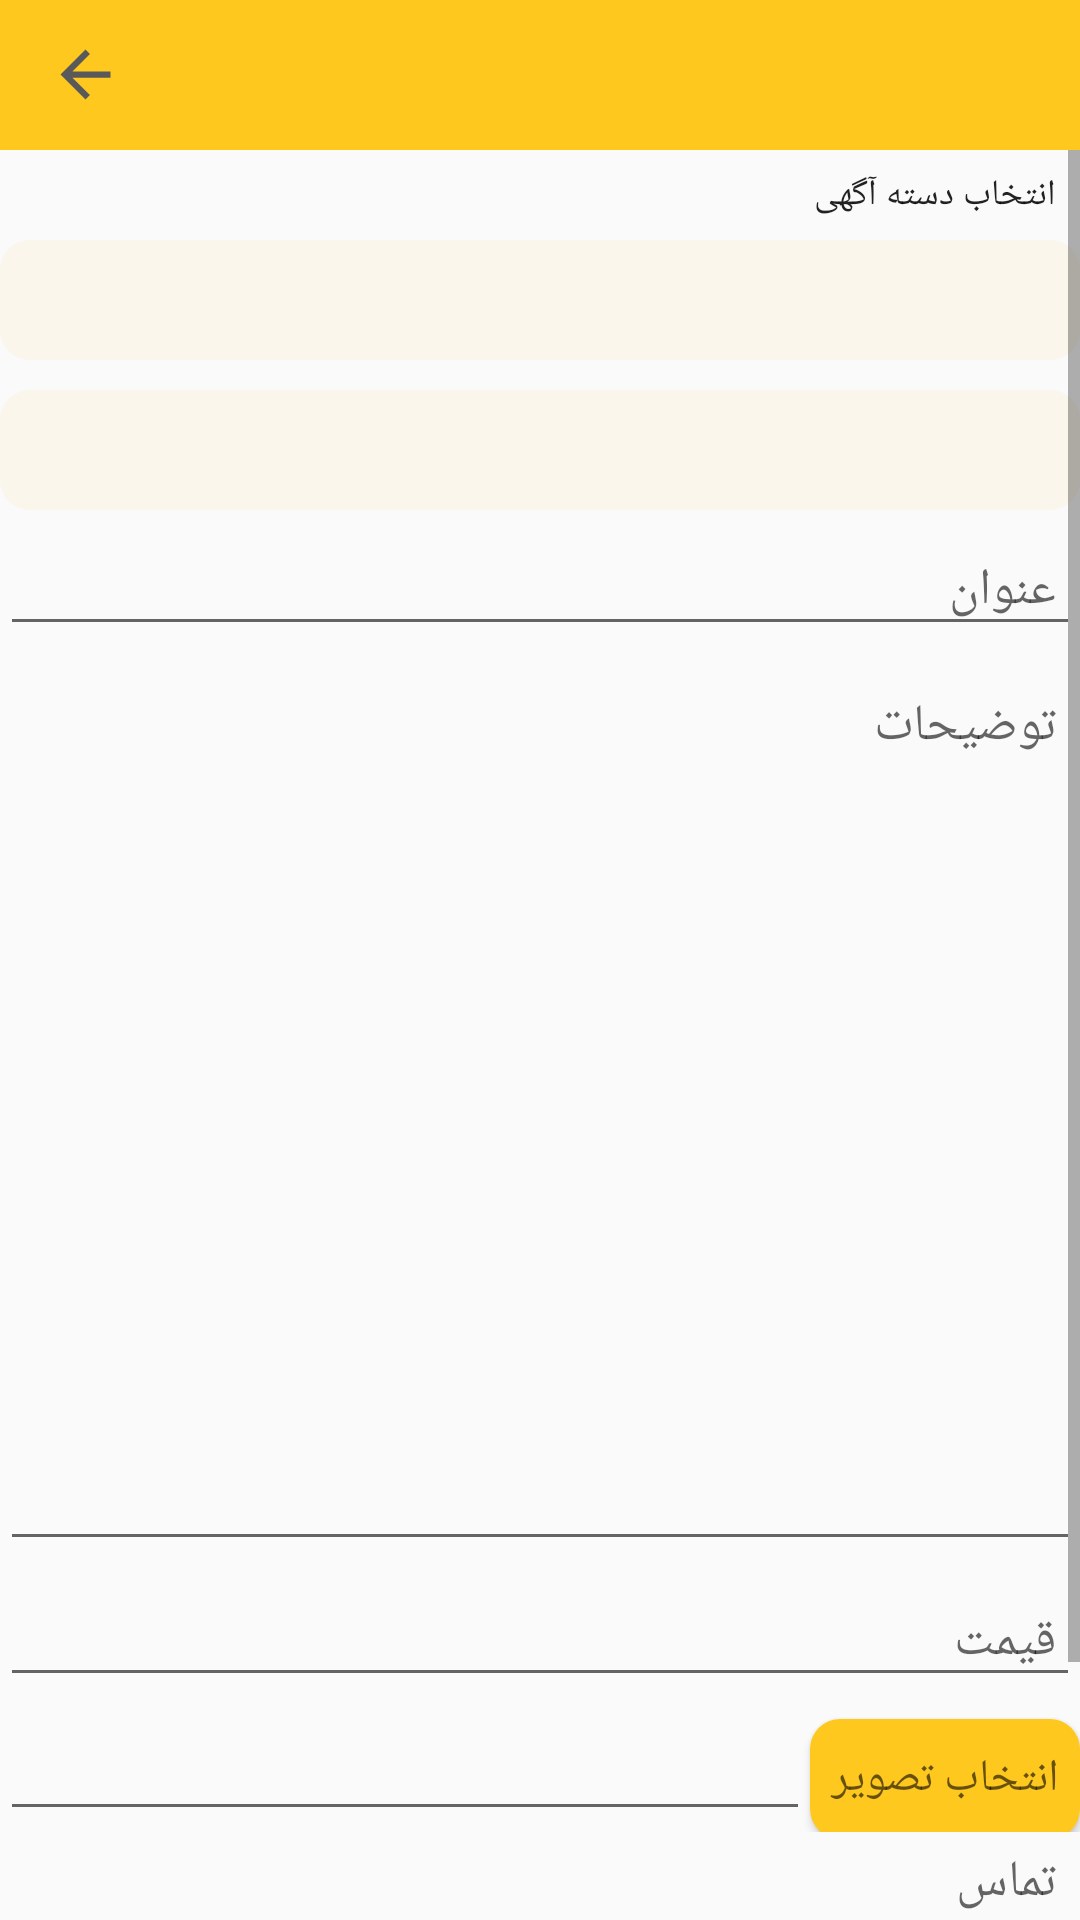

Named icons in this screenshot (1080px×1920px) and their bounding boxes, (x1, y1, x2, y2):
arrow back: (60, 49, 111, 100)
